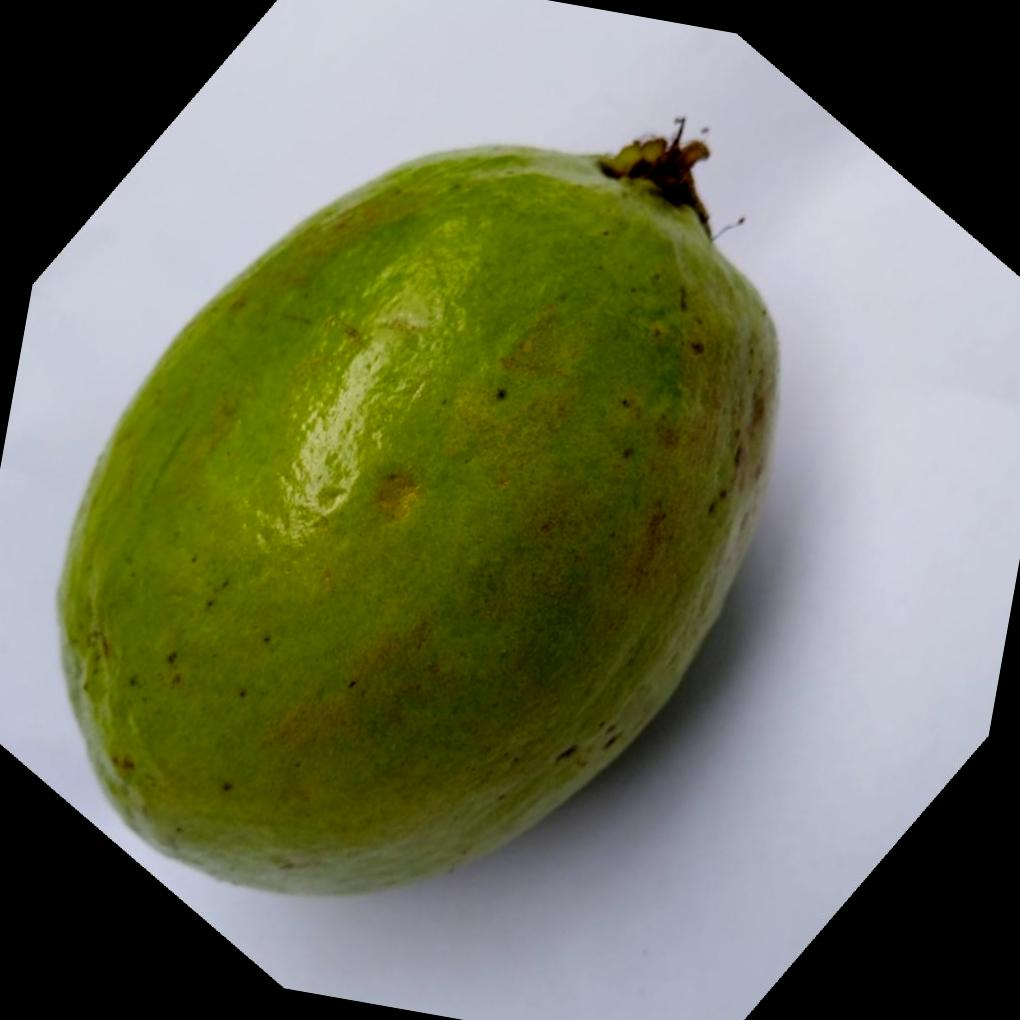FreshGuava: (56, 135, 784, 899)
